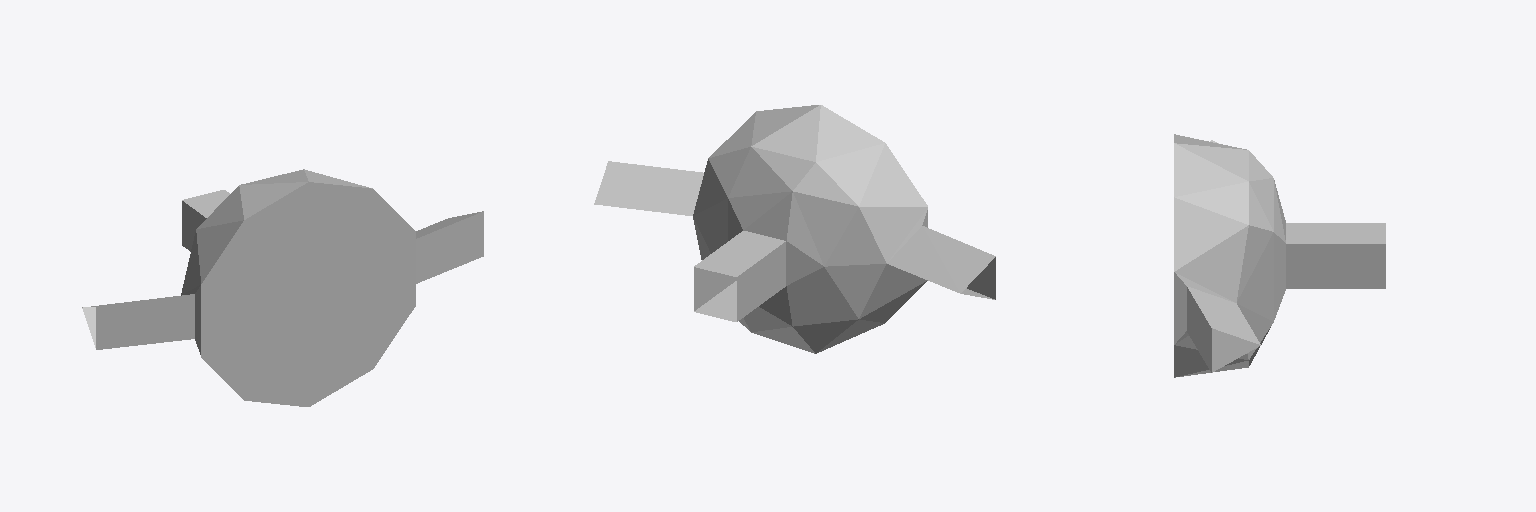
The model's file is base_core_side.obj.
3 views of the same model, side by side, from view 1: azimuth 30°, elevation 25°; view 2: azimuth 150°, elevation 25°; view 3: azimuth 270°, elevation 25° (orthographic).
Parts seen in each view (by area): view 1: Icosphere; view 2: Icosphere; view 3: Icosphere.
Part boxes in pixels (bbox=[...]): Icosphere: bbox=[82, 169, 483, 406]; Icosphere: bbox=[594, 105, 995, 353]; Icosphere: bbox=[1174, 134, 1385, 377].
Size of the model in its own units: 36 by 20 by 17.